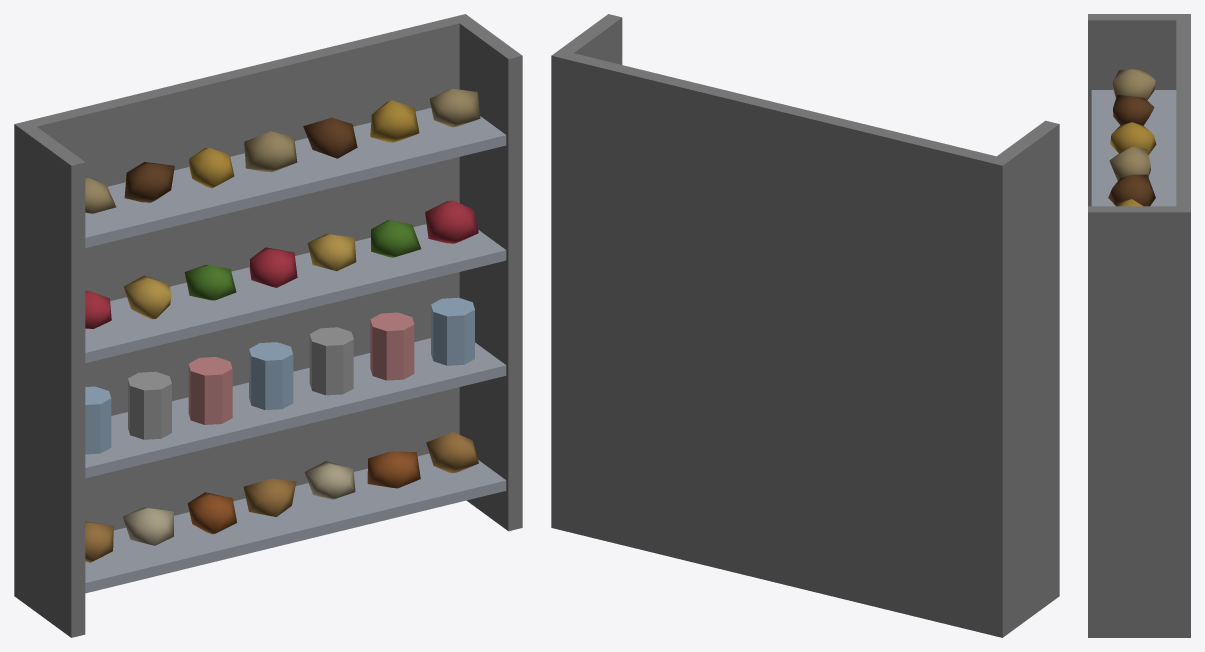
Rendered from shelf_goods.glb.
The picture shows the model from 3 angles, left to right: view 1: azimuth 30°, elevation 25°; view 2: azimuth 150°, elevation 25°; view 3: azimuth 270°, elevation 25°; orthographic projection. The views are drawn at different scales.
Visible parts, largest first — view 1: shelf_goods; view 2: shelf_goods; view 3: shelf_goods.
Boxes of the visible parts, x1=… form: shelf_goods: x1=14, y1=14, x2=522, y2=637; shelf_goods: x1=551, y1=14, x2=1059, y2=637; shelf_goods: x1=1088, y1=14, x2=1190, y2=637.
Size of the model in its own units: 3.2 by 3.2 by 0.7.
